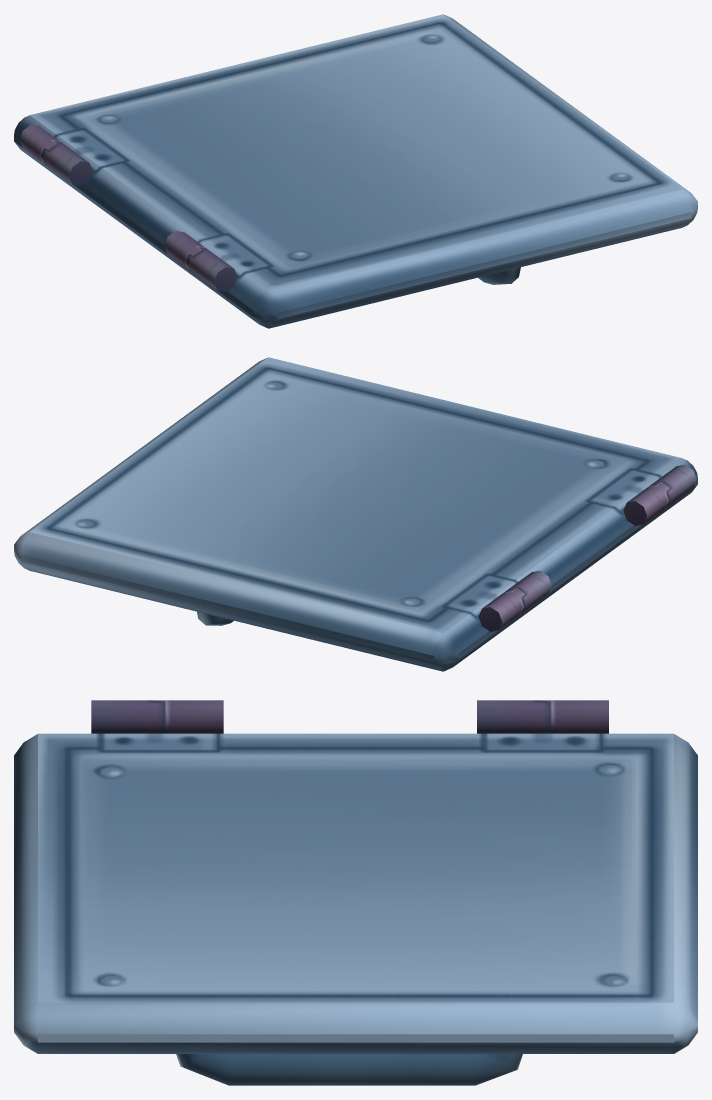
File: Bunker 1.FBX
3 views of the same model, one above another, from view 1: azimuth 30°, elevation 25°; view 2: azimuth 150°, elevation 25°; view 3: azimuth 270°, elevation 25° (orthographic). The views are drawn at different scales.
Visible parts, largest first — view 1: Box130; view 2: Box130; view 3: Box130.
Boxes of the visible parts, left/top/right/bottom form: Box130: left=14, top=14, right=697, bottom=328; Box130: left=14, top=357, right=697, bottom=671; Box130: left=14, top=700, right=697, bottom=1085.
Size of the model in its own units: 9.26 by 2.55 by 8.88.
